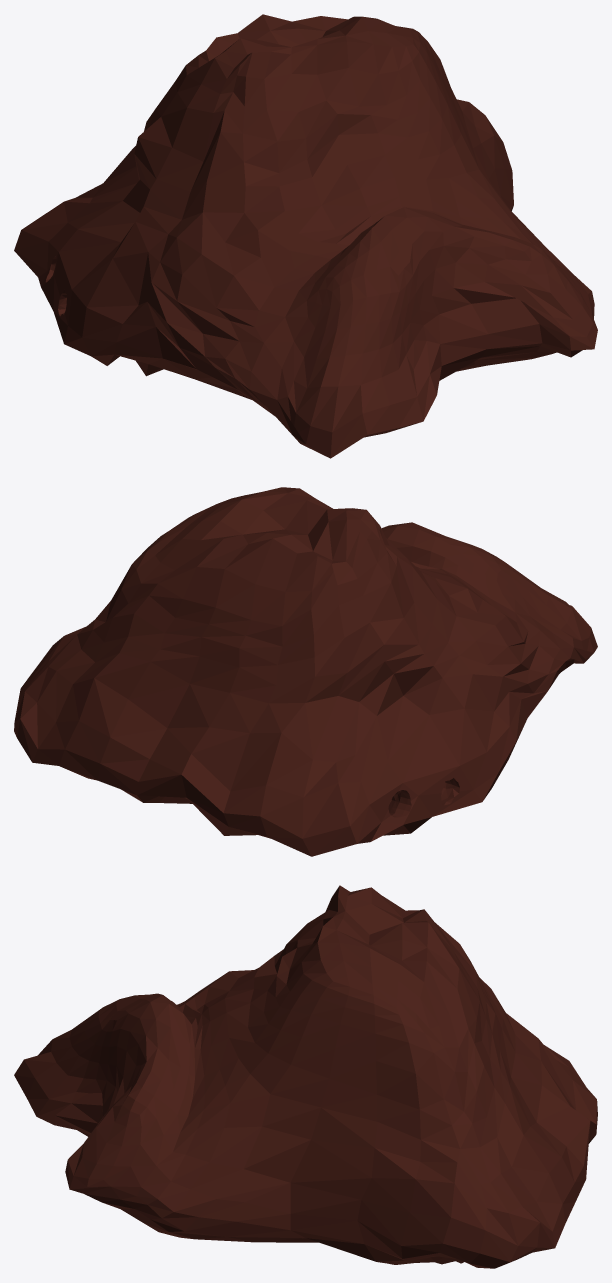
Rendered from cave mountain thing.FBX.
3 views of the same model, one above another, from view 1: azimuth 30°, elevation 25°; view 2: azimuth 150°, elevation 25°; view 3: azimuth 270°, elevation 25° (orthographic). The views are drawn at different scales.
Visible parts, largest first — view 1: Box070; view 2: Box070; view 3: Box070.
Boxes of the visible parts, x1=… form: Box070: x1=14, y1=14, x2=597, y2=458; Box070: x1=14, y1=487, x2=597, y2=856; Box070: x1=14, y1=885, x2=597, y2=1268.
Bounding box in the file's own units: 1034 × 618 × 1189.
